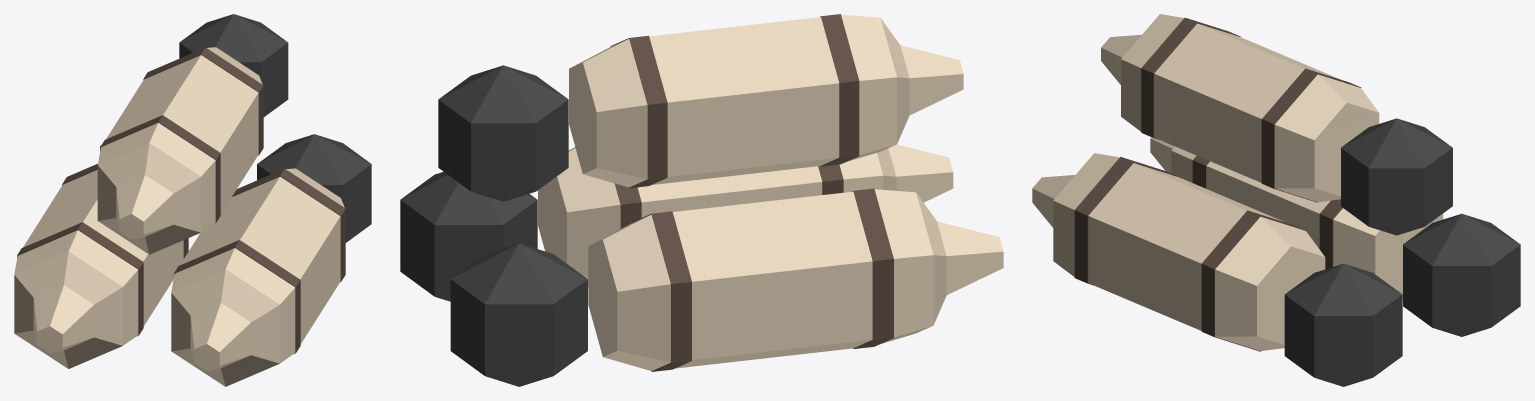
Rendered from ce_ammo2_powder_round_b.obj.
The picture shows the model from 3 angles, left to right: view 1: azimuth 30°, elevation 25°; view 2: azimuth 150°, elevation 25°; view 3: azimuth 270°, elevation 25°; orthographic projection. The views are drawn at different scales.
Parts seen in each view (by area): view 1: ce_ammo2_powder_round_b_12, ce_ammo2_powder_round_b_20, ce_ammo2_powder_round_b_9, ce_ammo2_powder_round_b_1, ce_ammo2_powder_round_b_17, ce_ammo2_powder_round_b_15, ce_ammo2_powder_round_b_4, ce_ammo2_powder_round_b_23, ce_ammo2_powder_round_b_10, ce_ammo2_powder_round_b_2, ce_ammo2_powder_round_b_0, ce_ammo2_powder_round_b_8 (+10 smaller); view 2: ce_ammo2_powder_round_b_4, ce_ammo2_powder_round_b_20, ce_ammo2_powder_round_b_7, ce_ammo2_powder_round_b_23, ce_ammo2_powder_round_b_15, ce_ammo2_powder_round_b_6, ce_ammo2_powder_round_b_22, ce_ammo2_powder_round_b_14, ce_ammo2_powder_round_b_2, ce_ammo2_powder_round_b_12, ce_ammo2_powder_round_b_18, ce_ammo2_powder_round_b_3 (+12 smaller); view 3: ce_ammo2_powder_round_b_12, ce_ammo2_powder_round_b_20, ce_ammo2_powder_round_b_15, ce_ammo2_powder_round_b_7, ce_ammo2_powder_round_b_23, ce_ammo2_powder_round_b_14, ce_ammo2_powder_round_b_22, ce_ammo2_powder_round_b_6, ce_ammo2_powder_round_b_4, ce_ammo2_powder_round_b_10, ce_ammo2_powder_round_b_18, ce_ammo2_powder_round_b_11 (+9 smaller).
Part boxes in pixels (left/top/right/bottom): ce_ammo2_powder_round_b_12: left=180, top=177, right=340, bottom=343; ce_ammo2_powder_round_b_20: left=106, top=55, right=258, bottom=213; ce_ammo2_powder_round_b_9: left=171, top=269, right=279, bottom=386; ce_ammo2_powder_round_b_1: left=14, top=251, right=122, bottom=368; ce_ammo2_powder_round_b_17: left=97, top=143, right=200, bottom=254; ce_ammo2_powder_round_b_15: left=257, top=134, right=371, bottom=242; ce_ammo2_powder_round_b_4: left=23, top=170, right=183, bottom=326; ce_ammo2_powder_round_b_23: left=179, top=14, right=288, bottom=116; ce_ammo2_powder_round_b_10: left=171, top=248, right=295, bottom=363; ce_ammo2_powder_round_b_2: left=14, top=230, right=138, bottom=345; ce_ammo2_powder_round_b_0: left=33, top=285, right=93, bottom=353; ce_ammo2_powder_round_b_8: left=190, top=303, right=250, bottom=370; ce_ammo2_powder_round_b_4: left=672, top=191, right=872, bottom=368; ce_ammo2_powder_round_b_20: left=649, top=17, right=839, bottom=184; ce_ammo2_powder_round_b_7: left=450, top=243, right=587, bottom=386; ce_ammo2_powder_round_b_23: left=438, top=65, right=568, bottom=201; ce_ammo2_powder_round_b_15: left=400, top=172, right=537, bottom=301; ce_ammo2_powder_round_b_6: left=588, top=214, right=670, bottom=370; ce_ammo2_powder_round_b_22: left=569, top=39, right=647, bottom=187; ce_ammo2_powder_round_b_14: left=538, top=147, right=620, bottom=287; ce_ammo2_powder_round_b_2: left=874, top=189, right=933, bottom=343; ce_ammo2_powder_round_b_12: left=637, top=166, right=822, bottom=217; ce_ammo2_powder_round_b_18: left=841, top=14, right=896, bottom=161; ce_ammo2_powder_round_b_3: left=852, top=188, right=893, bottom=348; ce_ammo2_powder_round_b_12: left=1088, top=163, right=1283, bottom=330; ce_ammo2_powder_round_b_20: left=1154, top=23, right=1339, bottom=182; ce_ammo2_powder_round_b_15: left=1284, top=263, right=1402, bottom=386; ce_ammo2_powder_round_b_7: left=1403, top=213, right=1520, bottom=336; ce_ammo2_powder_round_b_23: left=1341, top=118, right=1452, bottom=235; ce_ammo2_powder_round_b_14: left=1215, top=216, right=1325, bottom=350; ce_ammo2_powder_round_b_22: left=1274, top=74, right=1379, bottom=201; ce_ammo2_powder_round_b_6: left=1333, top=208, right=1443, bottom=297; ce_ammo2_powder_round_b_4: left=1206, top=161, right=1330, bottom=248; ce_ammo2_powder_round_b_10: left=1053, top=153, right=1119, bottom=276; ce_ammo2_powder_round_b_18: left=1121, top=14, right=1183, bottom=131; ce_ammo2_powder_round_b_11: left=1074, top=157, right=1179, bottom=285.
Size of the model in its own units: 0.7767 by 0.4501 by 0.7894.
